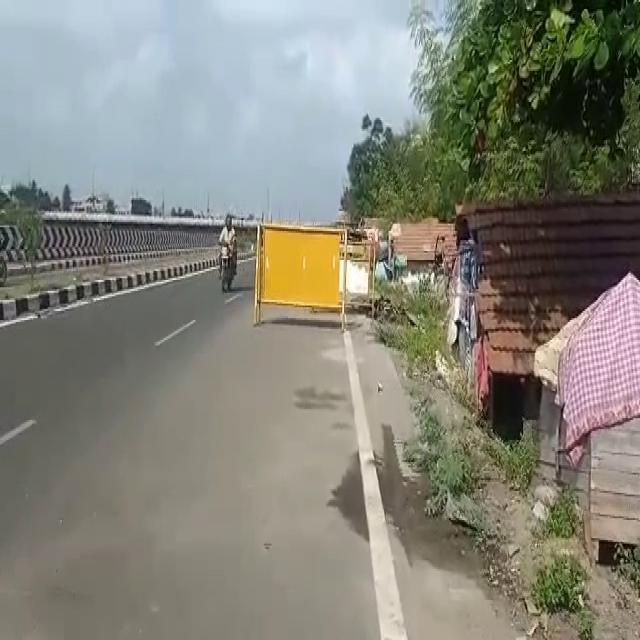fallen_object: (243, 212, 362, 351)
